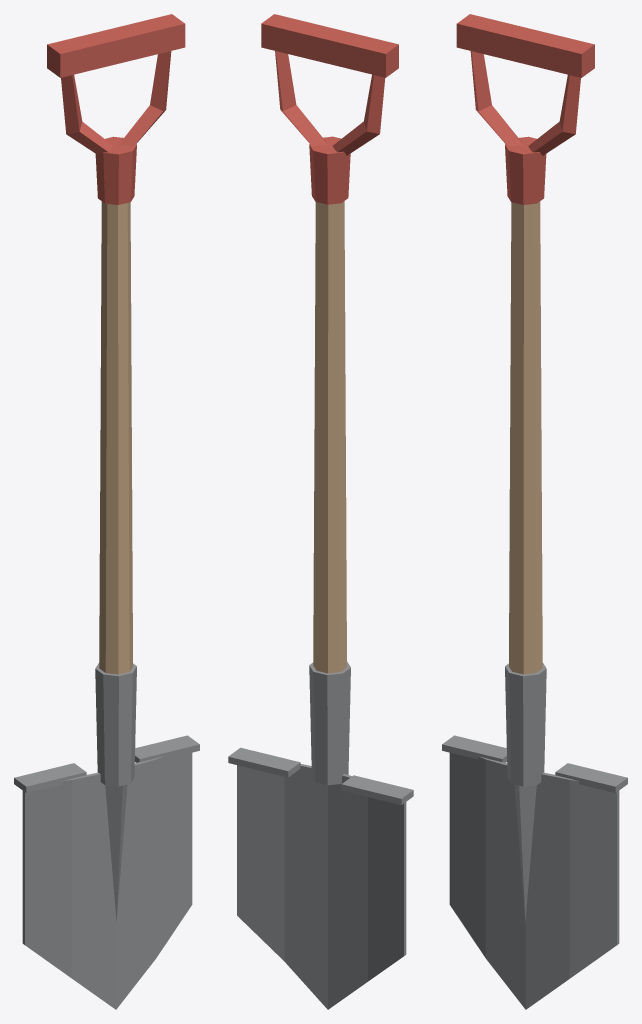
File: shovel.fbx
3 renders of one model, left to right at view 1: azimuth 30°, elevation 25°; view 2: azimuth 150°, elevation 25°; view 3: azimuth 330°, elevation 25°, orthographic.
Parts seen in each view (by area): view 1: Shovel; view 2: Shovel; view 3: Shovel.
Boxes of the visible parts, x1,y1,x2,y2 form: Shovel: [14, 14, 199, 1009]; Shovel: [228, 14, 413, 1009]; Shovel: [442, 14, 627, 1009].
Bounding box in the file's own units: 22.8 × 123 × 5.7.
